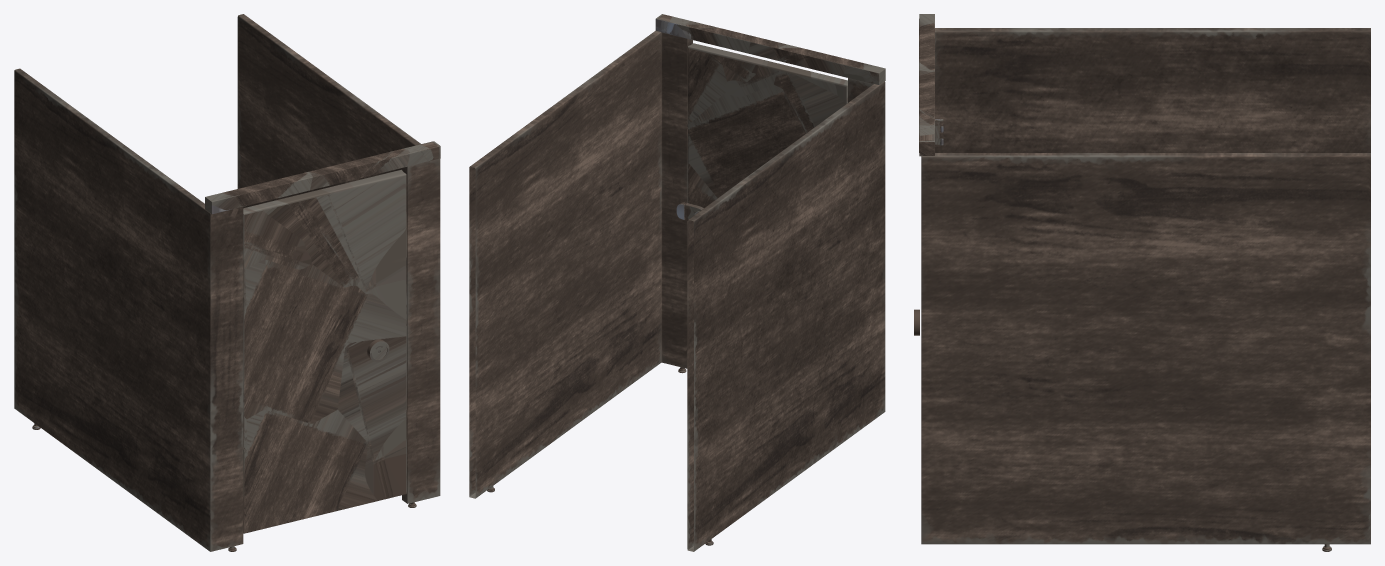
The model's file is M_ToiletPartition.fbx.
3 views of the same model, side by side, from view 1: azimuth 30°, elevation 25°; view 2: azimuth 150°, elevation 25°; view 3: azimuth 270°, elevation 25° (orthographic). The views are drawn at different scales.
Visible parts, largest first — view 1: walls_GEO, door_GEO, bar_GEO; view 2: walls_GEO, door_GEO, bar_GEO; view 3: walls_GEO, bar_GEO.
Boxes of the visible parts, x1=… form: walls_GEO: x1=14, y1=14, x2=440, y2=551; door_GEO: x1=243, y1=169, x2=406, y2=533; bar_GEO: x1=205, y1=141, x2=440, y2=214; walls_GEO: x1=469, y1=30, x2=885, y2=551; door_GEO: x1=687, y1=43, x2=847, y2=207; bar_GEO: x1=655, y1=14, x2=885, y2=84; walls_GEO: x1=921, y1=28, x2=1370, y2=544; bar_GEO: x1=919, y1=14, x2=934, y2=156.
Size of the model in its own units: 90.46 by 134 by 135.
Materials: 1 (1 with a texture image).
